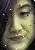without_mask: (1, 1, 35, 50)
